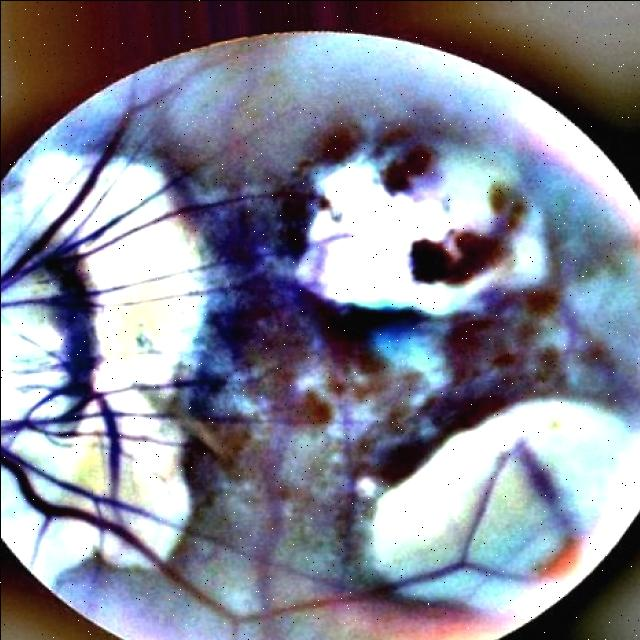Macula: (412, 180, 529, 280)
Nerves: (0, 452, 465, 621), (2, 53, 232, 278), (87, 192, 331, 253)
Optic Disk: (0, 142, 205, 584), (0, 310, 56, 420)
